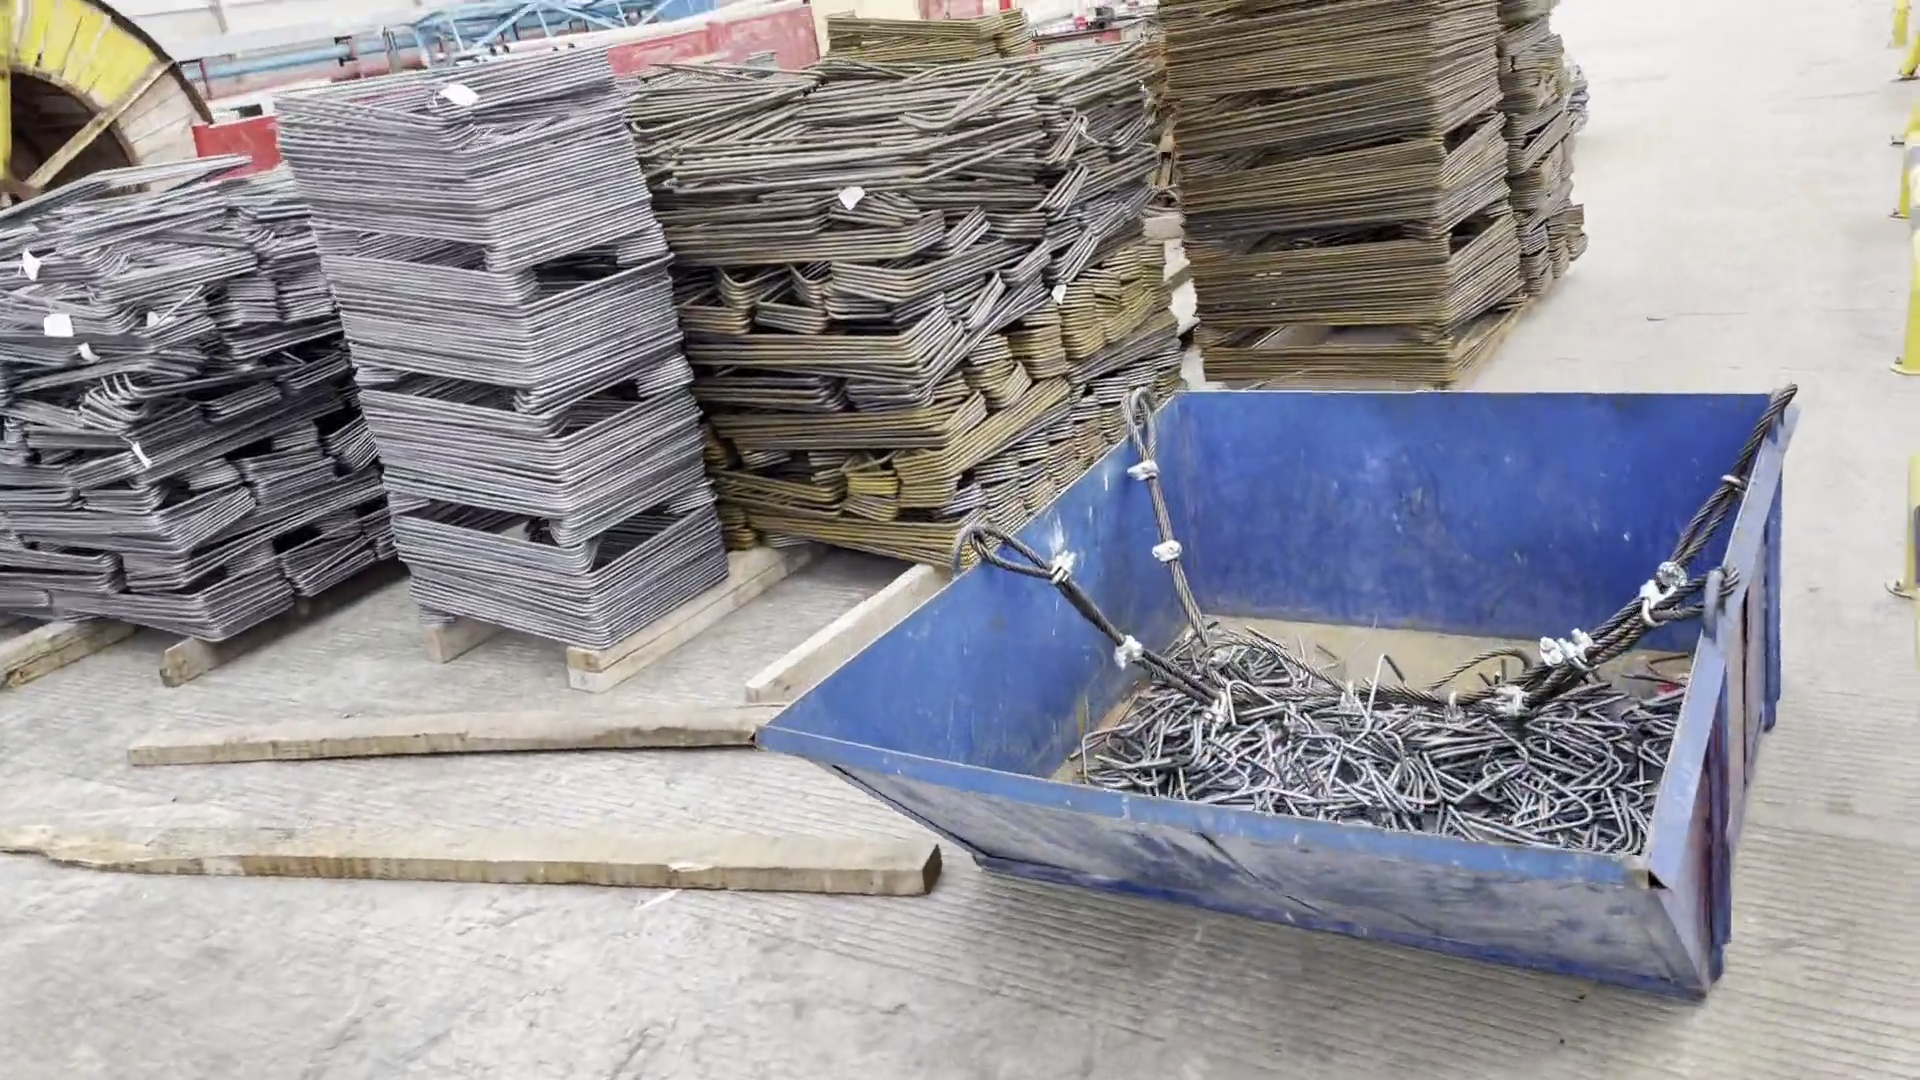hopper: (749, 359, 1796, 1036)
